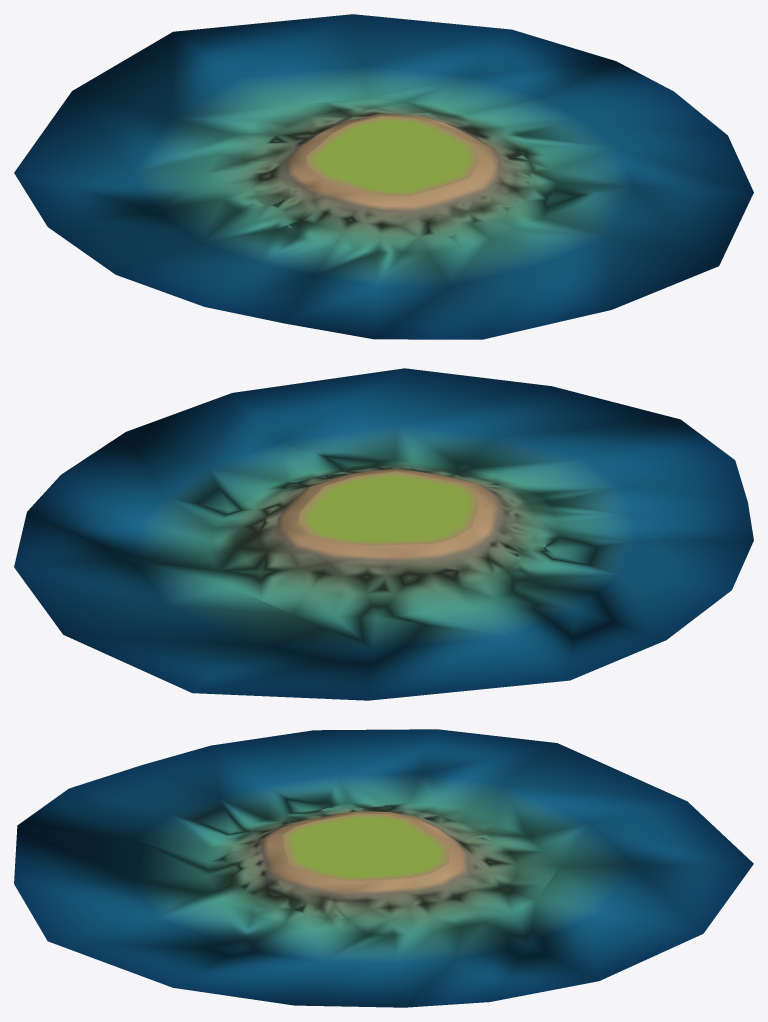
The model's file is island_Mdl.fbx.
3 views of the same model, one above another, from view 1: azimuth 30°, elevation 25°; view 2: azimuth 150°, elevation 25°; view 3: azimuth 270°, elevation 25° (orthographic). The views are drawn at different scales.
Visible parts, largest first — view 1: Island_Mdl1; view 2: Island_Mdl1; view 3: Island_Mdl1.
Boxes of the visible parts, bbox=[...] form: Island_Mdl1: bbox=[14, 14, 753, 339]; Island_Mdl1: bbox=[14, 368, 753, 700]; Island_Mdl1: bbox=[14, 729, 753, 1007].
Bounding box in the file's own units: 4917 × 181 × 5523.
